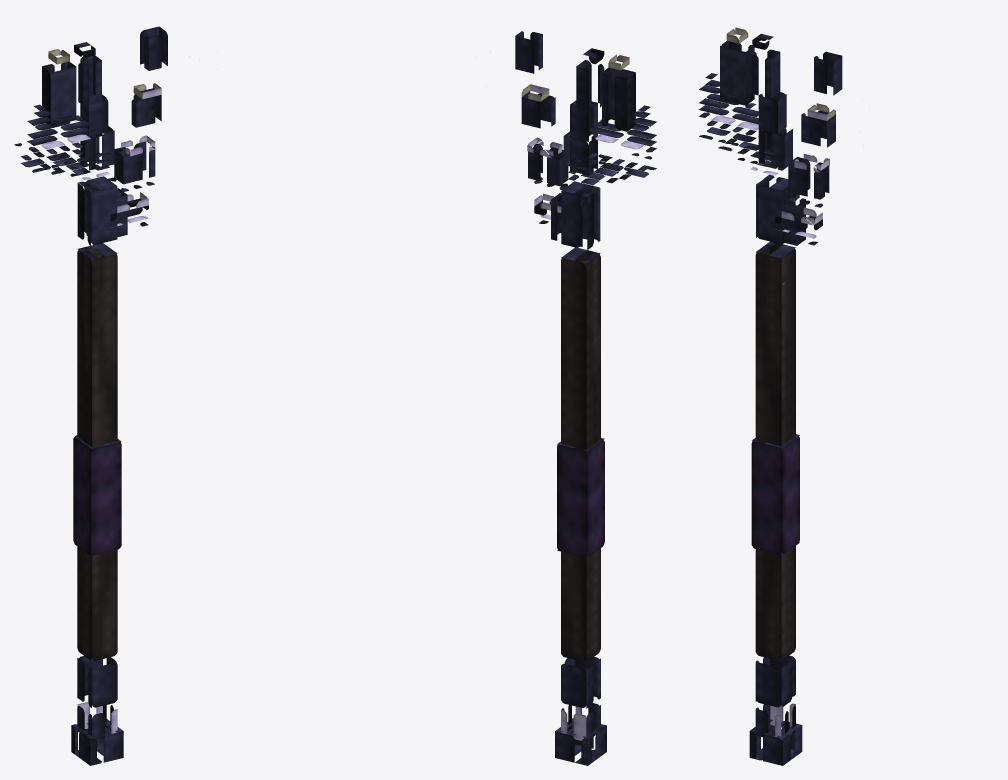
The model's file is carrion_mercy.obj.
3 renders of one model, left to right at view 1: azimuth 30°, elevation 25°; view 2: azimuth 150°, elevation 25°; view 3: azimuth 330°, elevation 25°, orthographic.
Visible parts, largest first — view 1: lit, fire; view 2: lit, fire; view 3: lit, fire.
Boxes of the visible parts, x1,y1,x2,y2 form: lit: (14,26,167,765); fire: (42,49,76,126); lit: (515,31,656,765); fire: (602,54,635,131); lit: (699,33,842,765); fire: (720,27,754,105).
Bounding box in the file's own units: 1.47 × 3.38 × 0.2312.
